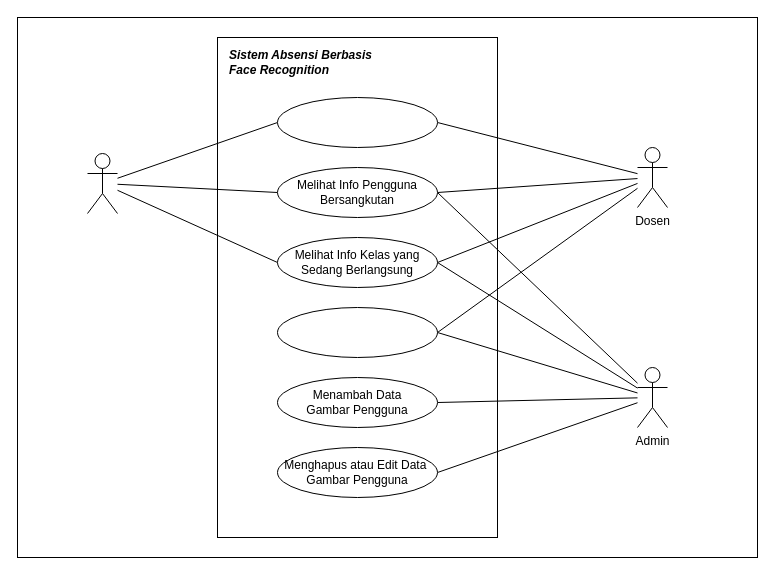
Some shapes in this 775 by 575 pixel diagram are drawn without their labels. The shapes that lost their labels are listed below. From the top down, each one's centre as x and y in pixels, then its label:
point (357, 122): Melakukan Pemindaian Wajah
point (102, 183): Mahasiswa
point (357, 332): Melihat Info Kehadiran Mahasiswa
